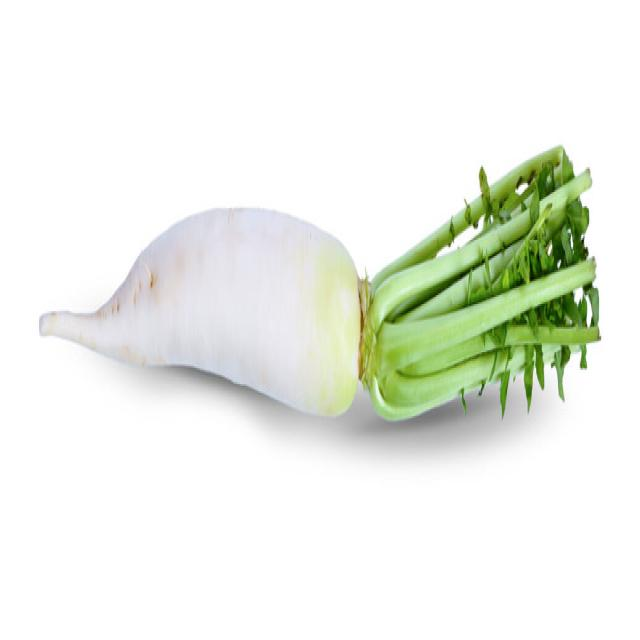Radish: (38, 142, 601, 423)
